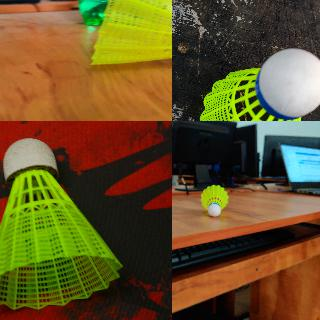shuttlecock: (0, 137, 123, 309), (200, 48, 319, 120), (91, 0, 171, 66), (200, 184, 228, 216)
